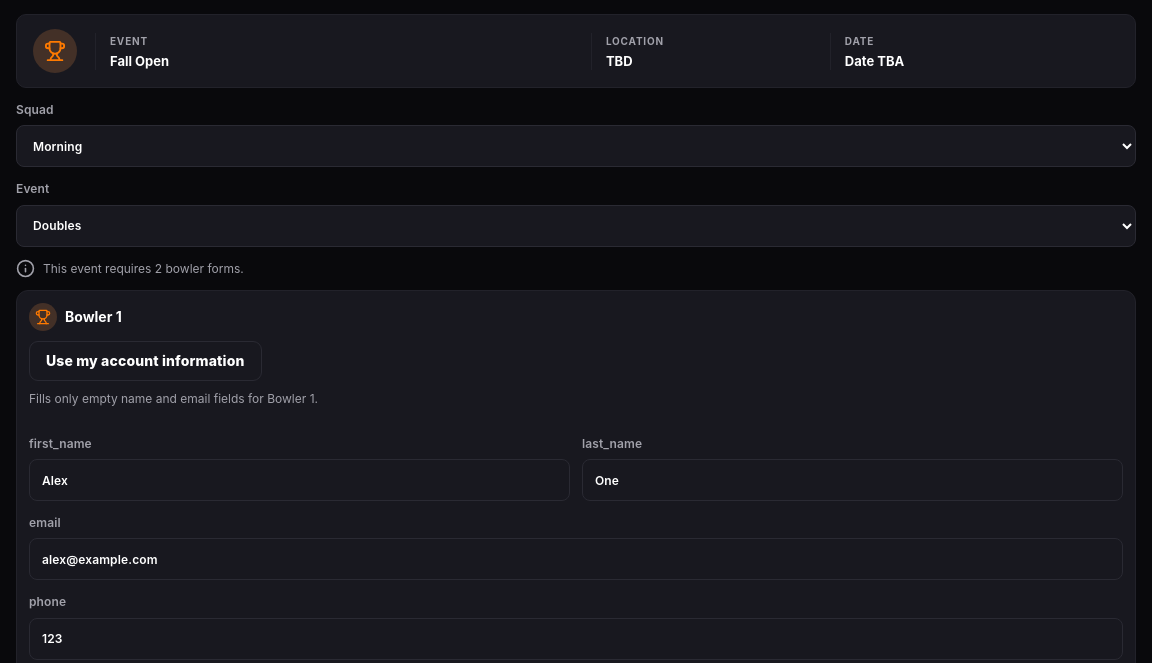
Test: registration conveniences and review flow › reports profile errors without clearing existing details
The width and height of the screenshot is (1152, 663).
(page scrolled)
Click the button "Use my account information": (145,361) [29,341,262,381]
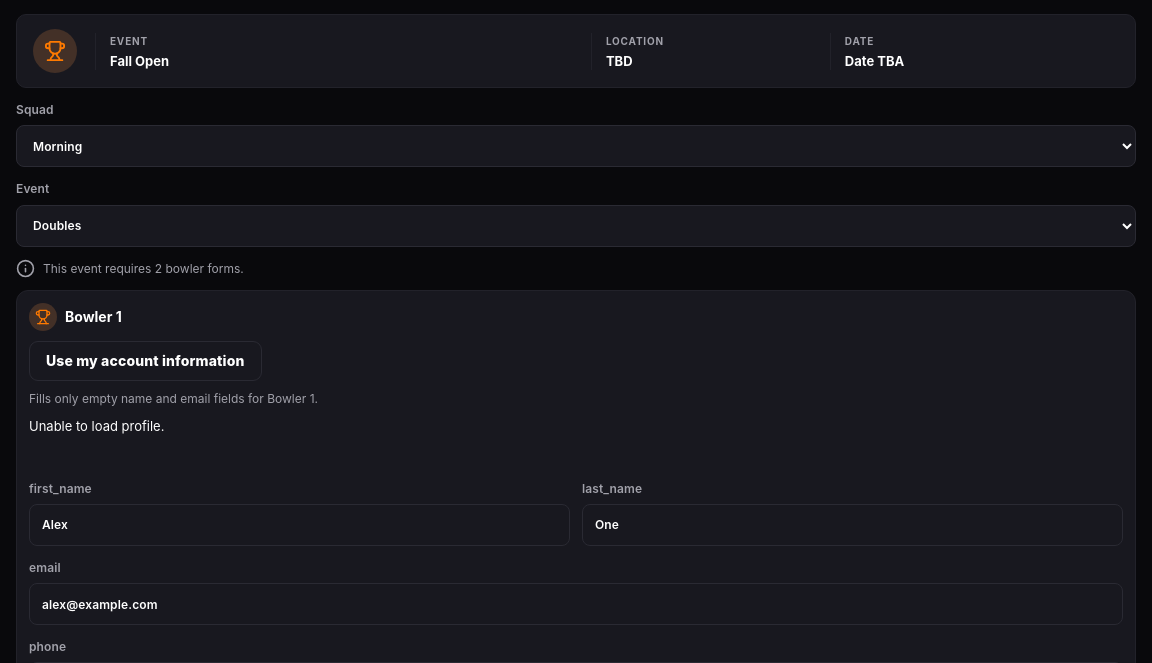
Expected: the field labelled "first_name" holds "Alex", [29,504,570,546]
Expected: the message reads "Unable to load profile.", [29,418,164,434]
